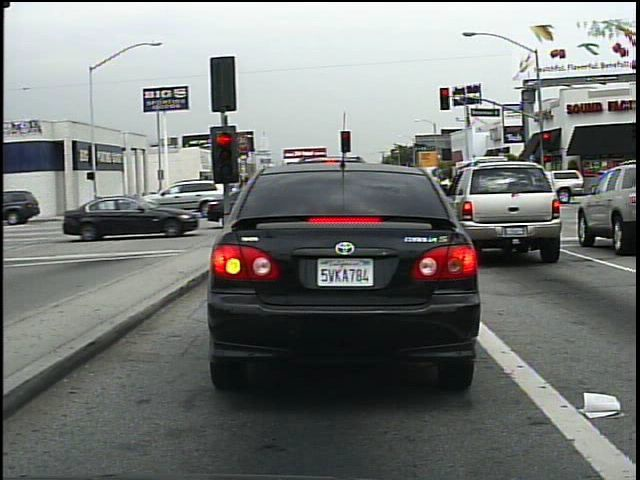person: (194, 177, 217, 216)
